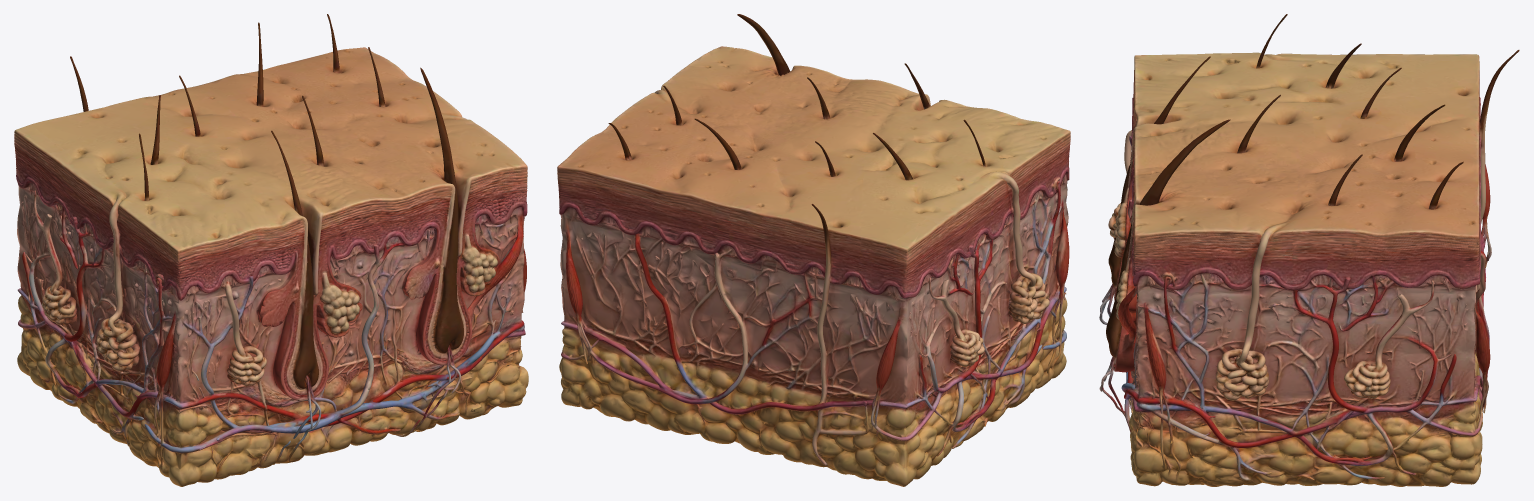
The model's file is skin.glb.
The picture shows the model from 3 angles, left to right: view 1: azimuth 30°, elevation 25°; view 2: azimuth 150°, elevation 25°; view 3: azimuth 270°, elevation 25°; orthographic projection. The views are drawn at different scales.
Parts seen in each view (by area): view 1: tripo_node_e5876caf-7f3d-4121-9468-4d7c567ae73f; view 2: tripo_node_e5876caf-7f3d-4121-9468-4d7c567ae73f; view 3: tripo_node_e5876caf-7f3d-4121-9468-4d7c567ae73f.
Boxes of the visible parts, x1,y1,x2,y2 form: tripo_node_e5876caf-7f3d-4121-9468-4d7c567ae73f: (14, 14, 528, 486); tripo_node_e5876caf-7f3d-4121-9468-4d7c567ae73f: (557, 14, 1070, 486); tripo_node_e5876caf-7f3d-4121-9468-4d7c567ae73f: (1099, 14, 1519, 486).
Size of the model in its own units: 0.98 by 0.774 by 0.8529.
Materials: 1 (1 with a texture image).
